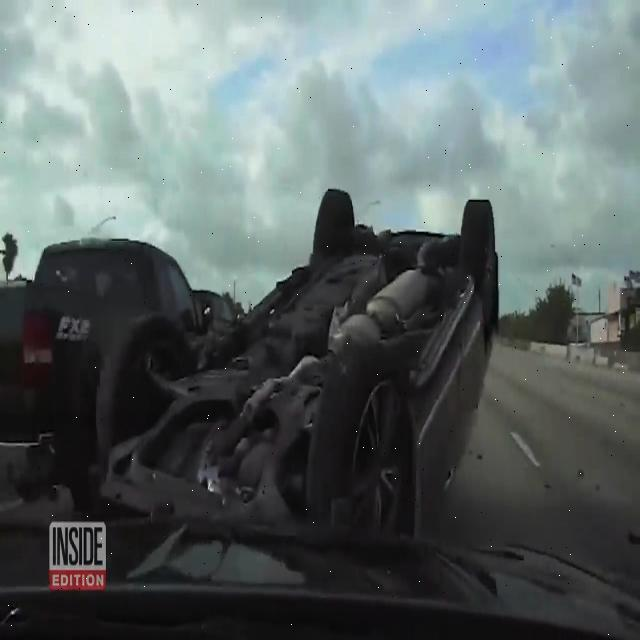accident: (79, 181, 497, 556)
